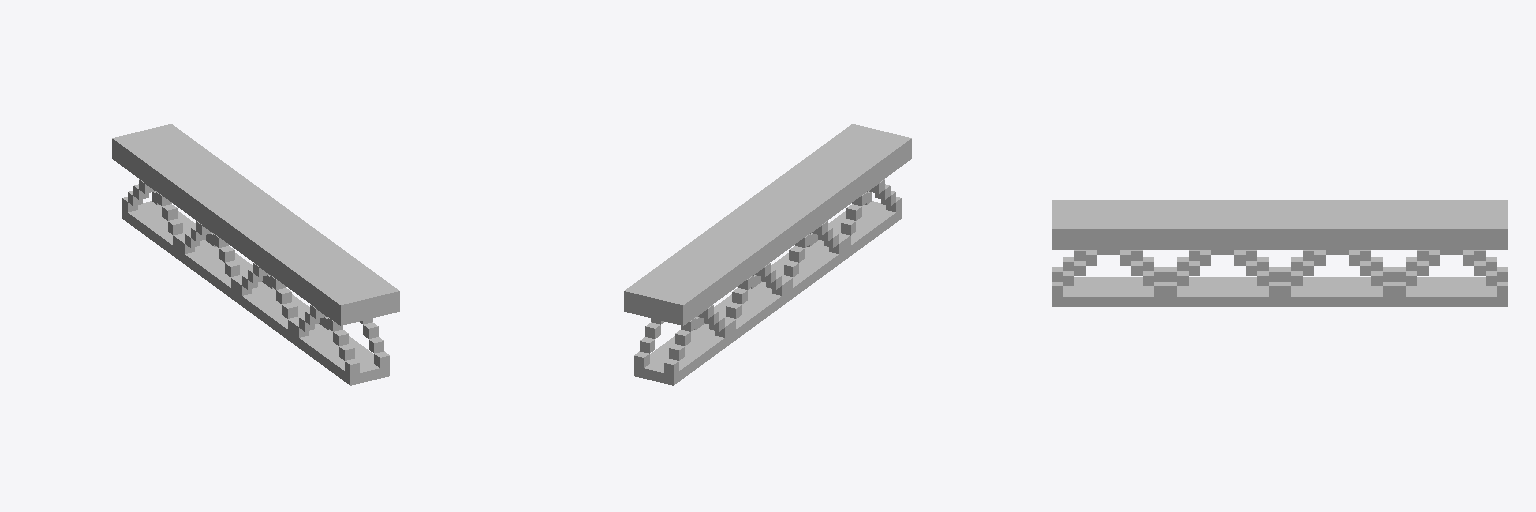
File: scaffolding.obj
3 views of the same model, side by side, from view 1: azimuth 30°, elevation 25°; view 2: azimuth 150°, elevation 25°; view 3: azimuth 270°, elevation 25° (orthographic).
Parts seen in each view (by area): view 1: object 1; view 2: object 1; view 3: object 1.
Boxes of the visible parts, x1,y1,x2,y2 form: object 1: [112, 124, 399, 385]; object 1: [624, 124, 911, 385]; object 1: [1052, 200, 1507, 306].
Bounding box in the file's own units: 0.6 × 0.8 × 4.